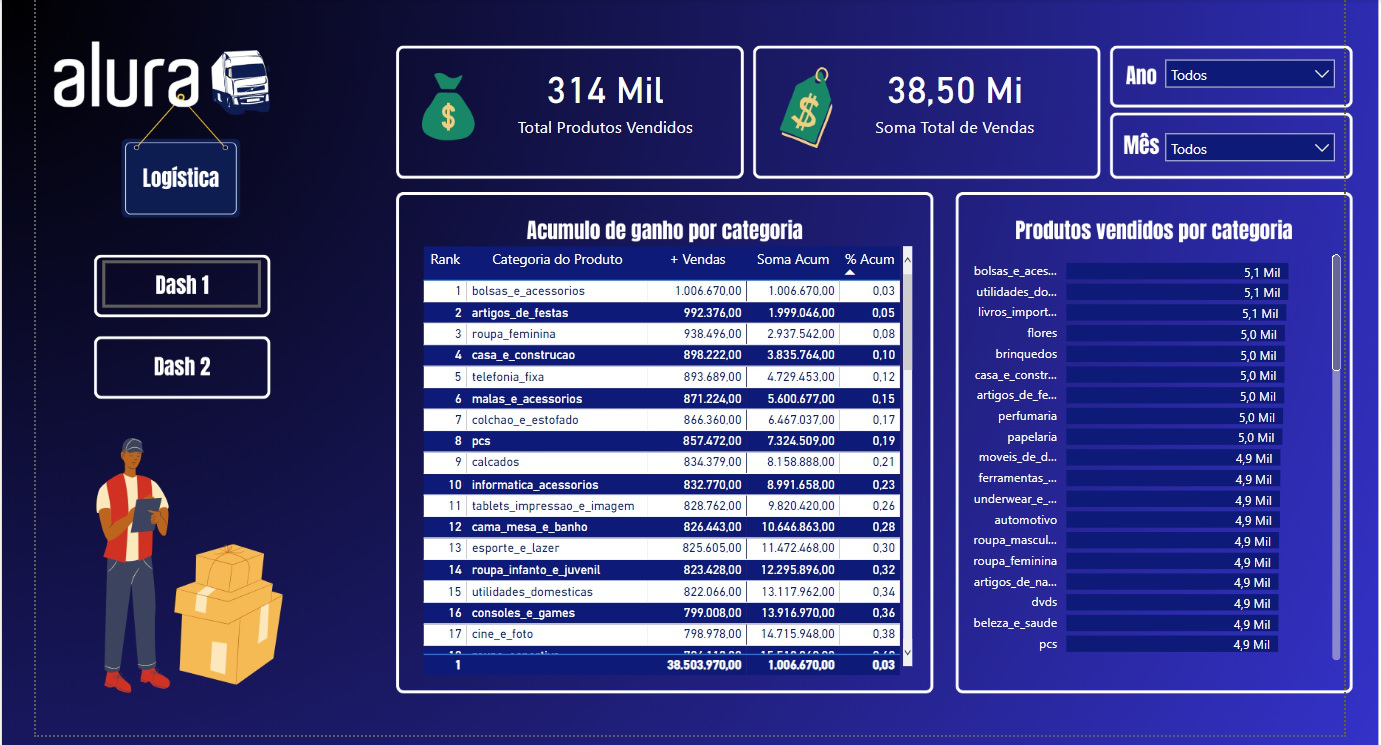

This screenshot's page, from the dashboard's own definition file:
{"tool":"powerbi","page":{"name":"Financeiro","canvas":[1280,720],"ordinal":1},"visuals":[{"type":"actionButton","box":[62.7,250,154.5,47.3],"z":0},{"type":"card","fields":{"Values":["Medidas.Soma de Vendas"]},"box":[792.7,48.2,212.7,98.2],"z":1000},{"type":"card","fields":{"Values":["Medidas.Qtd Produtos Vendidos"]},"box":[454.5,48.2,204.5,98.2],"z":2000},{"type":"slicer","fields":{"Values":["Pedidos.Data da compra.Variation.Hierarquia de datas.Ano"]},"box":[1093.6,41.8,186.4,49.1],"z":3000},{"type":"slicer","fields":{"Values":["Pedidos.Data da compra.Variation.Hierarquia de datas.Mês"]},"box":[1093.6,110.9,186.4,48.2],"z":4000},{"type":"tableEx","fields":{"Values":["Medidas.Rank de Categoria","Produtos.categoria_produto","Medidas.Soma de Vendas","Medidas.Soma Acum Categorias","Medidas.% Acum Categorias"]},"box":[368.2,237.3,489.1,429.1],"z":5000},{"type":"barChart","fields":{"Category":["Produtos.categoria_produto"],"Y":["Medidas.Qtd Produtos Vendidos"]},"box":[899.1,237.3,380.9,414.5],"z":6000}]}

Visuals, with their boxes on the page's 1280x720 design canvas (x1, y1, x2, y2). These are canvas units, not pixel positions in the 1381x745 screenshot, which may show the page scaled, cropped or inside an application window:
actionButton: l=63, t=250, r=217, b=297
card - Medidas.Soma de Vendas: l=793, t=48, r=1005, b=146
card - Medidas.Qtd Produtos Vendidos: l=454, t=48, r=659, b=146
slicer - Pedidos.Data da compra.Variation.Hierarquia de datas.Ano: l=1094, t=42, r=1280, b=91
slicer - Pedidos.Data da compra.Variation.Hierarquia de datas.Mês: l=1094, t=111, r=1280, b=159
tableEx - Medidas.Rank de Categoria x Produtos.categoria_produto: l=368, t=237, r=857, b=666
barChart - Produtos.categoria_produto x Medidas.Qtd Produtos Vendidos: l=899, t=237, r=1280, b=652
